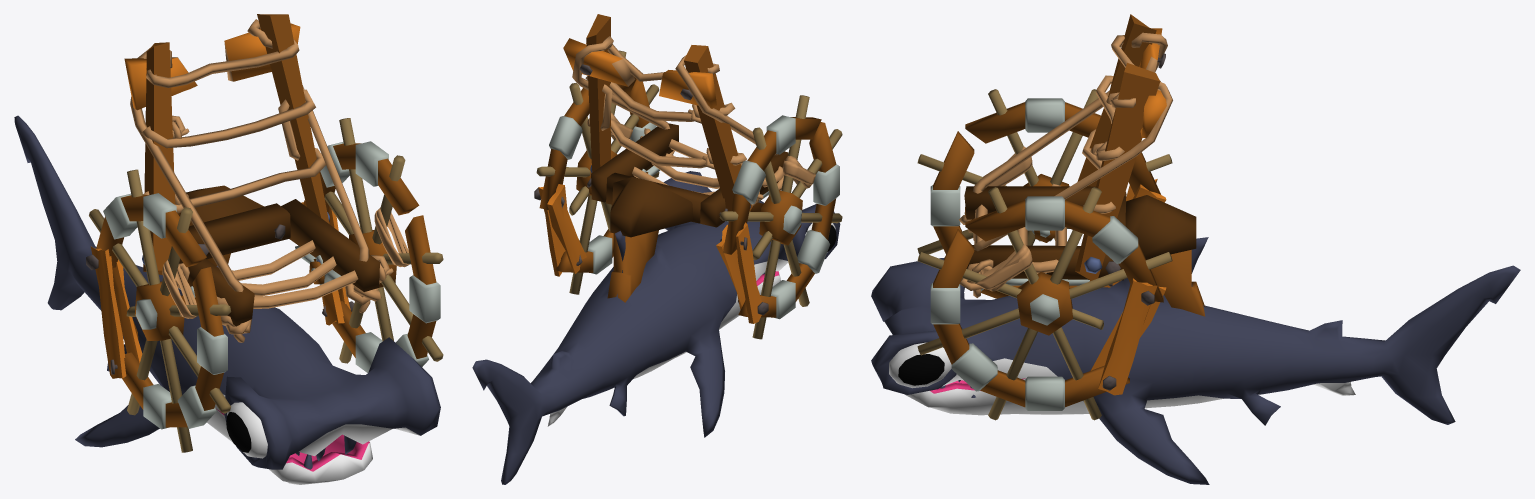
File: SM_Shart.001.fbx
The picture shows the model from 3 angles, left to right: view 1: azimuth 30°, elevation 25°; view 2: azimuth 150°, elevation 25°; view 3: azimuth 270°, elevation 25°; orthographic projection. The views are drawn at different scales.
Parts seen in each view (by area): view 1: SM_SHART; view 2: SM_SHART; view 3: SM_SHART.
Part boxes in pixels (x1,y1,x2,y2): SM_SHART: (14, 14, 443, 484); SM_SHART: (472, 14, 842, 484); SM_SHART: (871, 14, 1520, 484).
Bounding box in the file's own units: 99.07 × 240 × 162.
